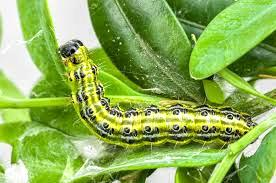Caterpillar: (59, 38, 263, 150)
